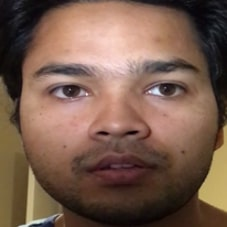awake: (31, 50, 210, 195)
